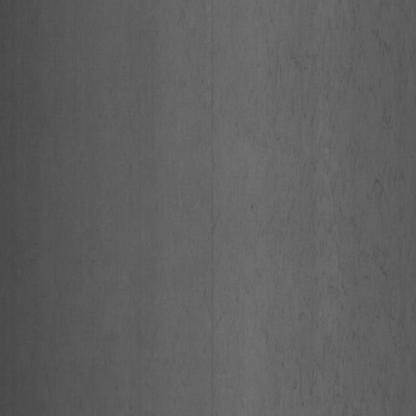silk_spot: (248, 10, 406, 389)
